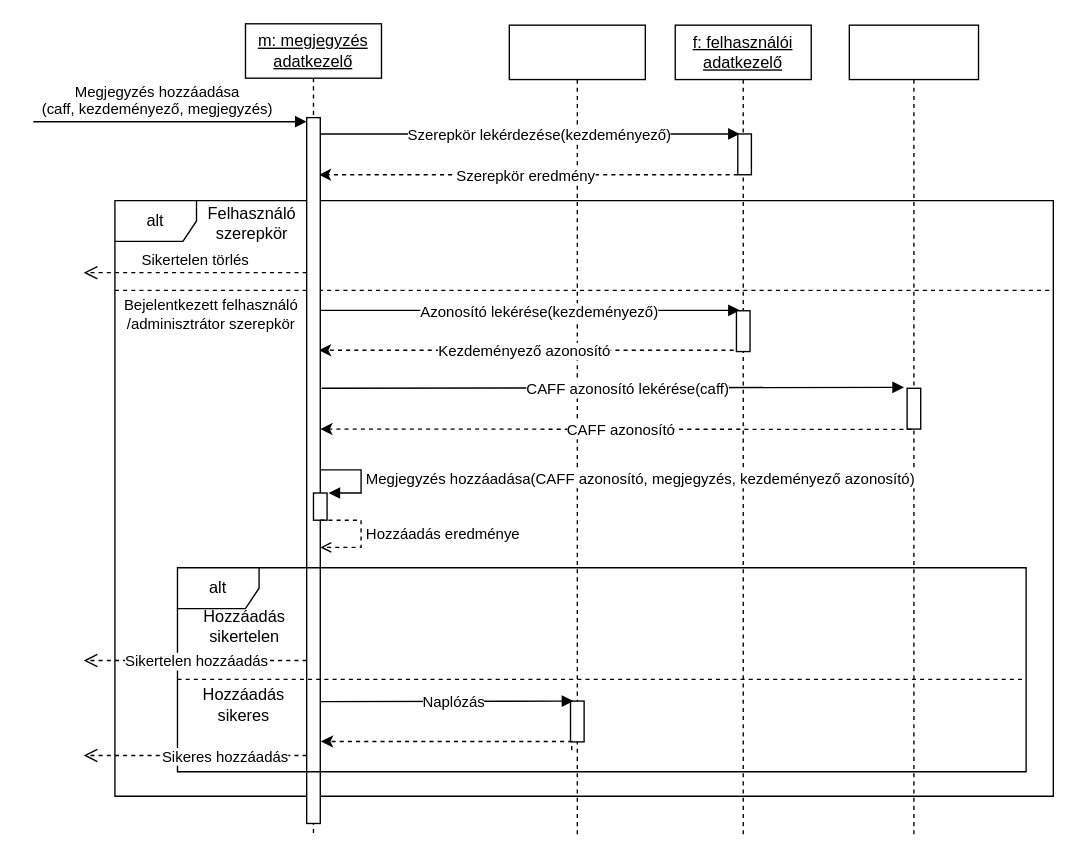
Some shapes in this 1077 by 861 pixel diagram are drawn without their labels. Each missing label, with the centre of its shape:
"c: CAFF adatkezelő" belongs at point (913, 430).
"n: napló adatkezelő" belongs at point (576, 430).
